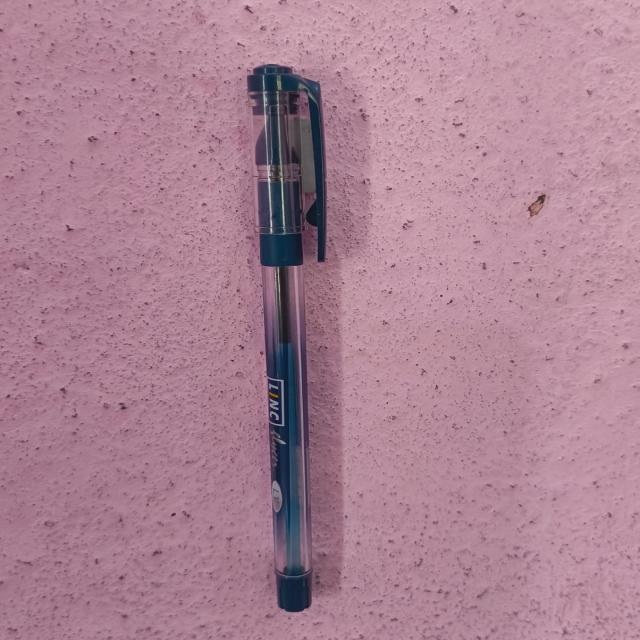blessing_card: (243, 61, 339, 620)
